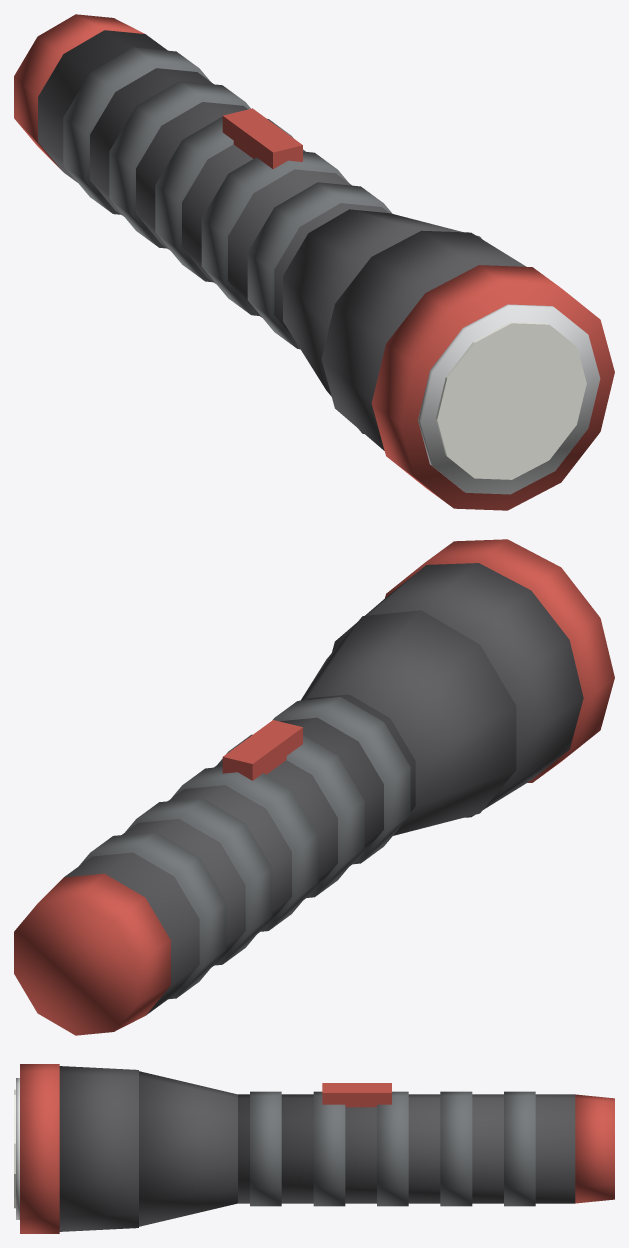
File: tool_flashlight.fbx
3 renders of one model, top to bottom at view 1: azimuth 30°, elevation 25°; view 2: azimuth 150°, elevation 25°; view 3: azimuth 270°, elevation 25°, orthographic. The views are drawn at different scales.
Parts seen in each view (by area): view 1: tool_flashlight; view 2: tool_flashlight; view 3: tool_flashlight.
Part boxes in pixels (x1=…): tool_flashlight: x1=14, y1=14, x2=614, y2=510; tool_flashlight: x1=14, y1=539, x2=614, y2=1035; tool_flashlight: x1=14, y1=1064, x2=614, y2=1233.
Bounding box in the file's own units: 0.086 × 0.086 × 0.303.
